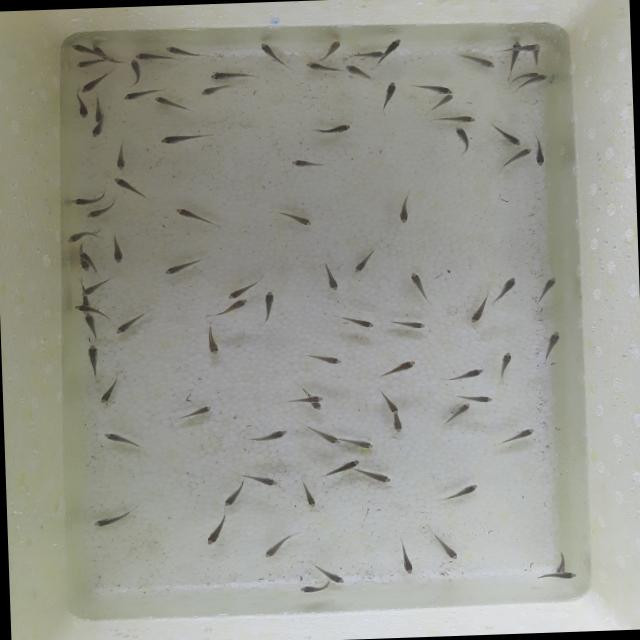fingerling: (260, 528, 300, 561), (113, 175, 156, 203), (202, 513, 232, 549), (402, 268, 432, 304), (171, 206, 220, 228), (157, 130, 216, 148), (270, 208, 317, 230), (112, 308, 150, 335), (101, 428, 142, 453), (392, 191, 418, 230), (310, 118, 356, 140), (393, 537, 418, 577), (493, 424, 538, 446), (488, 118, 521, 148), (303, 422, 341, 448), (374, 356, 418, 378), (90, 507, 136, 528), (456, 49, 498, 72), (200, 322, 224, 362), (81, 344, 109, 378), (334, 312, 377, 334), (426, 111, 481, 128), (256, 41, 288, 70), (531, 274, 560, 306), (435, 482, 480, 502), (444, 364, 489, 384), (348, 246, 378, 276), (489, 276, 519, 306), (432, 530, 460, 562), (539, 330, 566, 363), (440, 402, 474, 428), (493, 349, 518, 384), (173, 402, 216, 422), (159, 258, 204, 277), (318, 260, 341, 296), (80, 70, 114, 94), (95, 378, 124, 406), (466, 293, 491, 325), (285, 155, 332, 172), (257, 289, 279, 325), (223, 278, 260, 299), (530, 135, 552, 170), (250, 426, 292, 444), (304, 350, 346, 368), (386, 316, 428, 334), (409, 80, 454, 96), (300, 478, 321, 512), (360, 466, 394, 487), (106, 234, 128, 266), (380, 79, 399, 115), (153, 95, 191, 113), (318, 460, 358, 476), (111, 143, 133, 172), (247, 471, 284, 488), (219, 484, 244, 509), (534, 568, 578, 582), (208, 68, 258, 80), (501, 148, 534, 166), (165, 44, 207, 58), (64, 228, 98, 245), (379, 390, 401, 416), (453, 126, 472, 156), (303, 61, 341, 76), (423, 94, 454, 112), (343, 436, 377, 452), (70, 191, 106, 206), (200, 84, 238, 98), (455, 391, 495, 404), (345, 62, 372, 81), (323, 566, 348, 586), (119, 88, 154, 102), (126, 59, 144, 86), (81, 312, 99, 338), (319, 38, 342, 58), (219, 299, 250, 313), (84, 206, 114, 220), (74, 94, 90, 120), (291, 394, 325, 406), (497, 44, 541, 53), (92, 96, 106, 123), (346, 50, 387, 59), (73, 59, 104, 70), (388, 418, 407, 435), (296, 583, 322, 595), (68, 41, 92, 54), (90, 122, 106, 140), (384, 38, 403, 52), (135, 52, 163, 60), (81, 286, 95, 298), (78, 250, 92, 261), (74, 304, 92, 312), (534, 74, 550, 83), (78, 262, 90, 272)
